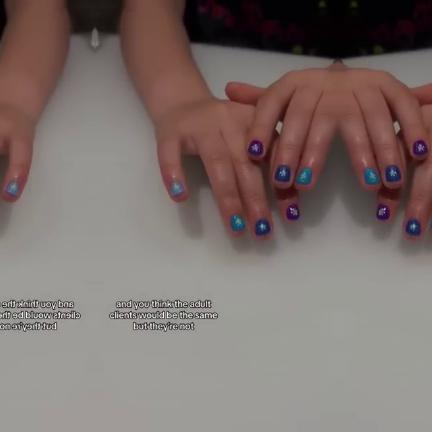Nail: (254, 219, 270, 237), (404, 219, 420, 237), (294, 168, 311, 184), (274, 165, 290, 182), (363, 168, 380, 184), (384, 165, 400, 182), (229, 215, 245, 231), (247, 140, 262, 156), (412, 140, 427, 156), (170, 182, 185, 197), (3, 182, 18, 197), (285, 204, 299, 220), (375, 204, 389, 220), (429, 218, 432, 230)
